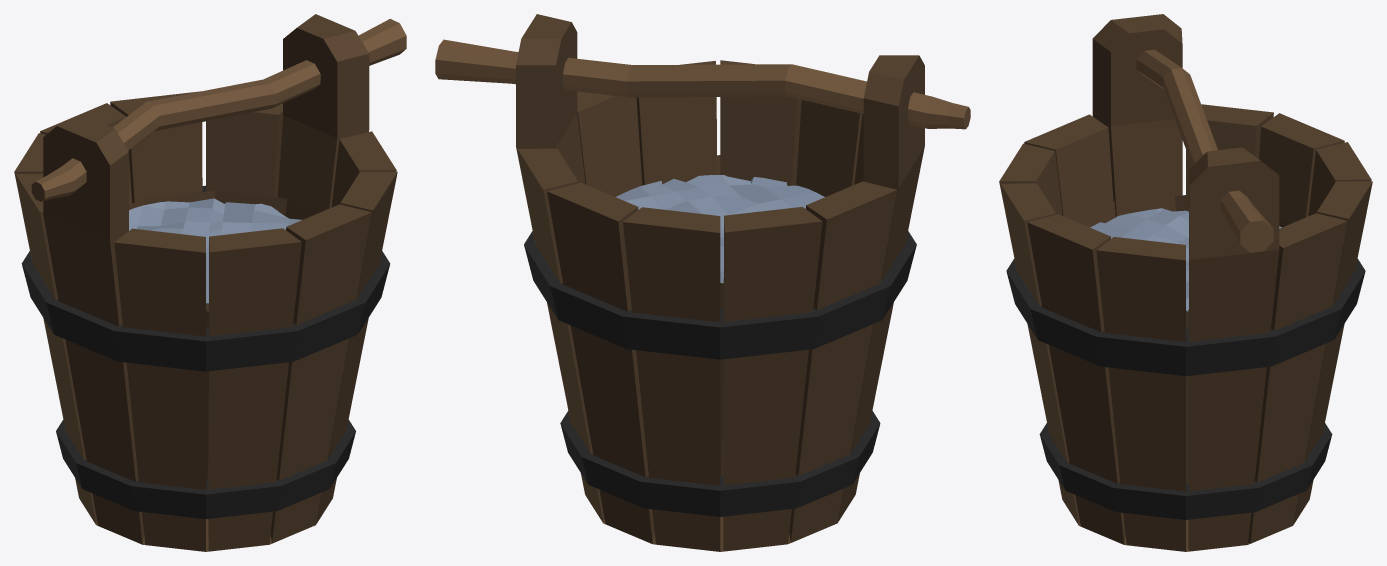
File: Emmer met water.fbx
3 renders of one model, left to right at view 1: azimuth 30°, elevation 25°; view 2: azimuth 150°, elevation 25°; view 3: azimuth 270°, elevation 25°, orthographic. The views are drawn at different scales.
Visible parts, largest first — view 1: Metaal, Circle; view 2: Metaal, Circle; view 3: Metaal, Circle.
Boxes of the visible parts, x1,y1,x2,y2 form: Metaal: (14, 14, 406, 551); Circle: (129, 198, 301, 303); Metaal: (435, 14, 970, 551); Circle: (615, 175, 824, 283); Metaal: (999, 14, 1372, 551); Circle: (1090, 208, 1281, 311).
Size of the model in its own units: 259 by 242 by 200.
